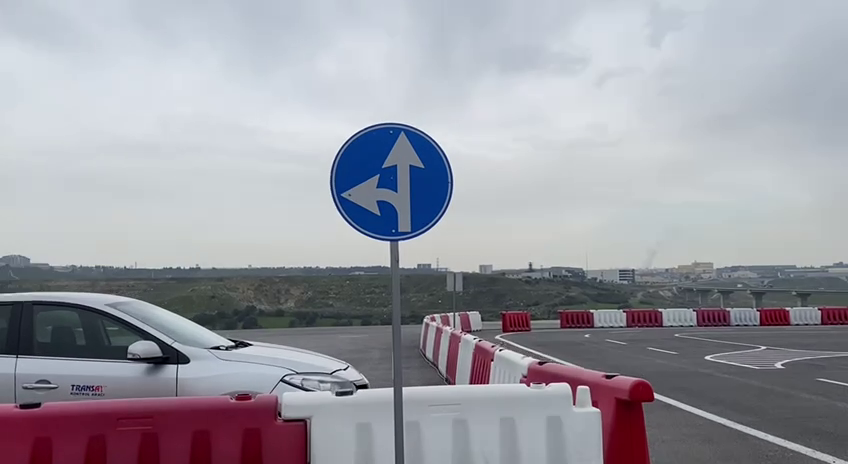forwardAndLeft: (327, 119, 456, 246)
